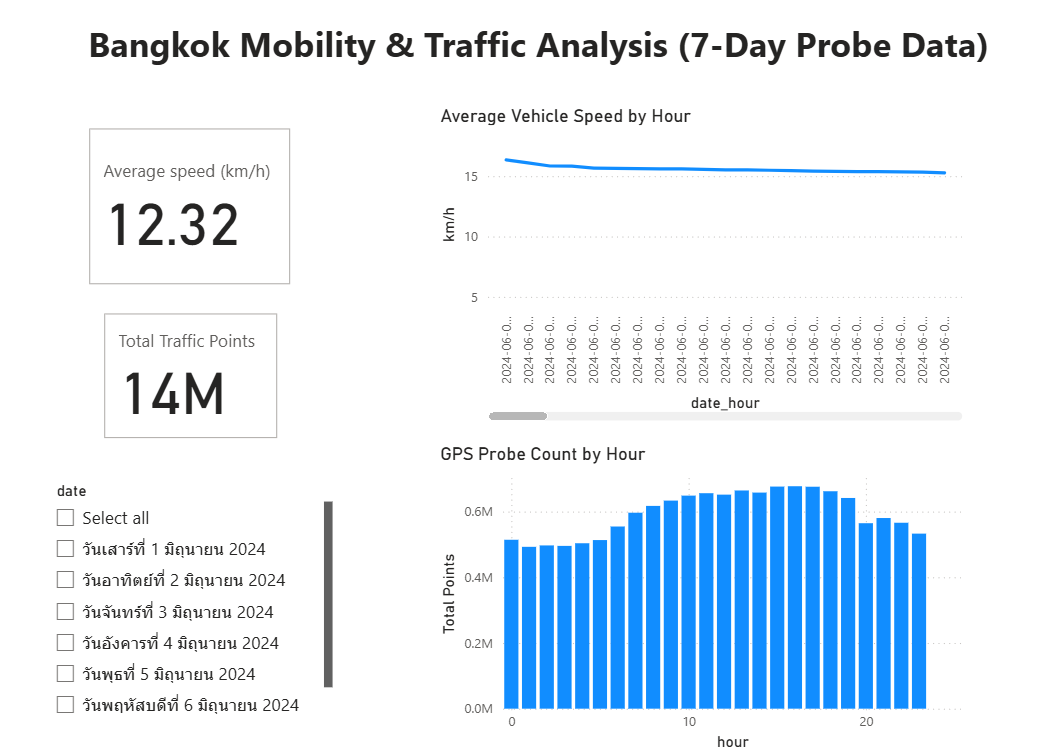

What the dashboard file says about the page in this screenshot:
{"tool":"powerbi","page":{"name":"Page 1","canvas":[1280,720],"ordinal":0},"visuals":[{"type":"lineChart","title":"Average Vehicle Speed by Hour","fields":{"Category":["probe_7days_hourly.date_hour"],"Y":["Sum(probe_7days_hourly.avg_speed)"]},"box":[573.6,113.9,495.4,299.1],"z":0},{"type":"clusteredColumnChart","title":"GPS Probe Count by Hour","fields":{"Category":["probe_7days_hourly.hour"],"Y":["Sum(probe_7days_hourly.points)"]},"box":[573.6,429.5,495.4,290.9],"z":1000},{"type":"textbox","box":[214.4,12.2,911.1,96.7],"z":2000},{"type":"slicer","fields":{"Values":["probe_7days_hourly.date"]},"box":[208.6,459.7,274.4,229.2],"z":3000},{"type":"cardVisual","fields":{"Data":["Avg(probe_7days_hourly.avg_speed)"]},"box":[247,131.7,197.6,155.1],"z":4000},{"type":"cardVisual","fields":{"Data":["Sum(probe_7days_hourly.points)"]},"box":[260.7,303.3,171.5,126.2],"z":5000}]}

Visuals, with their boxes on the page's 1280x720 design canvas (x1, y1, x2, y2). These are canvas units, not pixel positions in the 1043x751 screenshot, which may show the page scaled, cropped or inside an application window:
"Average Vehicle Speed by Hour" lineChart: {"left": 574, "top": 114, "right": 1069, "bottom": 413}
"GPS Probe Count by Hour" clusteredColumnChart: {"left": 574, "top": 430, "right": 1069, "bottom": 720}
textbox: {"left": 214, "top": 12, "right": 1126, "bottom": 109}
slicer - probe_7days_hourly.date: {"left": 209, "top": 460, "right": 483, "bottom": 689}
cardVisual - Avg(probe_7days_hourly.avg_speed): {"left": 247, "top": 132, "right": 445, "bottom": 287}
cardVisual - Sum(probe_7days_hourly.points): {"left": 261, "top": 303, "right": 432, "bottom": 430}
